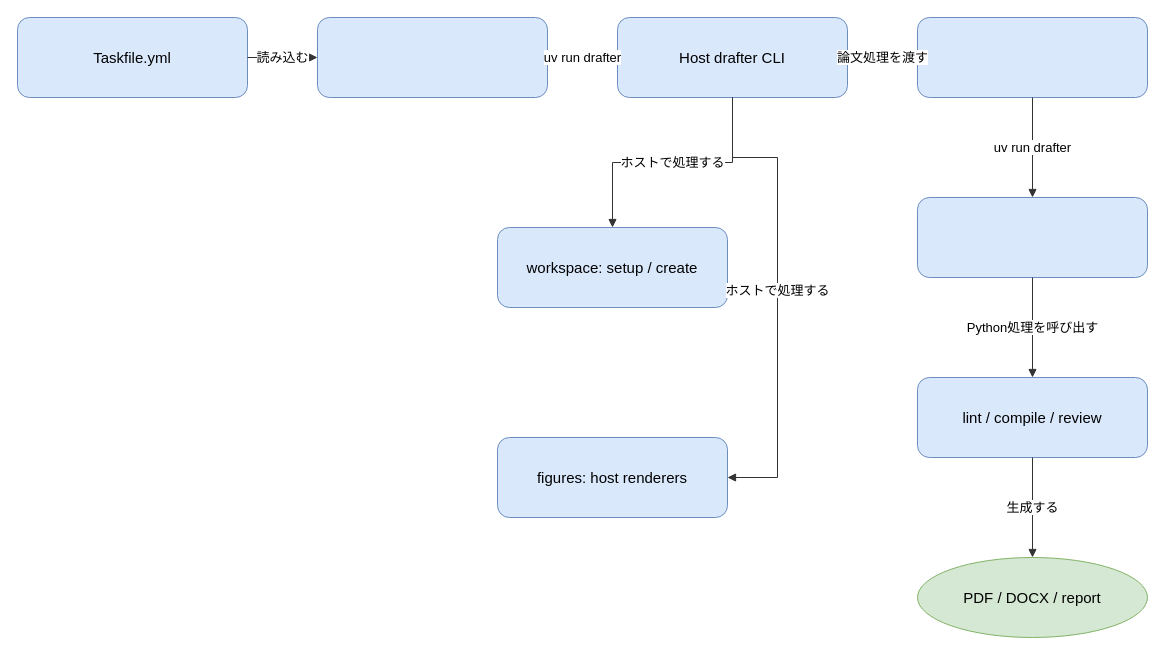
Image size: 1165x655. Some labels were removed from this diagram. The box of each missing label's shape, as (x1, y1, x2, y2) in pixels:
Container drafter CLI: (916, 196, 1148, 278)
Docker Composeを呼び出す: (916, 16, 1148, 98)
tools/go-task/: (316, 16, 548, 98)
